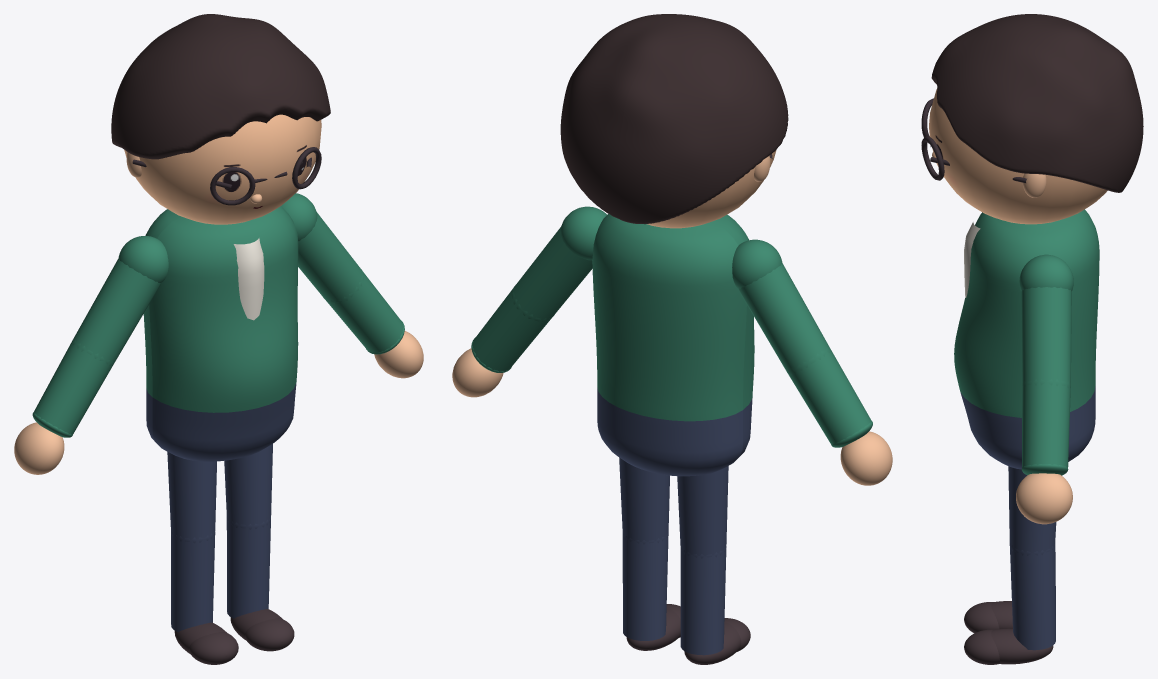
The model's file is qing_middle.glb.
The picture shows the model from 3 angles, left to right: view 1: azimuth 30°, elevation 25°; view 2: azimuth 150°, elevation 25°; view 3: azimuth 270°, elevation 25°; orthographic projection. The views are drawn at different scales.
Visible parts, largest first — view 1: torso, hair, head, pelvis, upper_arm_R, upper_arm_L, lower_arm_R, thigh_R, shin_R, shin_L, thigh_L, lower_arm_L (+4 smaller); view 2: hair, torso, pelvis, upper_arm_R, upper_arm_L, shin_R, shin_L, lower_arm_R, thigh_R, thigh_L, lower_arm_L, head (+4 smaller); view 3: hair, torso, head, upper_arm_L, lower_arm_L, shin_L, pelvis, hand_L, shoe_L, thigh_L, shoe_R.
Boxes of the visible parts, x1,y1,x2,y2 form: torso: (143, 206, 298, 412); hair: (111, 14, 330, 159); head: (124, 114, 321, 224); pelvis: (146, 383, 296, 461); upper_arm_R: (71, 236, 168, 365); upper_arm_L: (281, 193, 364, 304); lower_arm_R: (32, 340, 112, 437); thigh_R: (167, 452, 216, 543); shin_R: (171, 532, 215, 632); shin_L: (226, 519, 270, 618); thigh_L: (224, 444, 272, 529); lower_arm_L: (326, 271, 404, 354); hair: (560, 14, 788, 224); torso: (592, 214, 754, 421); pelvis: (597, 387, 752, 476); upper_arm_R: (732, 239, 830, 375); upper_arm_L: (511, 206, 606, 322); shin_R: (680, 549, 726, 655); shin_L: (622, 534, 668, 640); lower_arm_R: (788, 348, 872, 447); thigh_R: (677, 466, 728, 558); thigh_L: (619, 457, 669, 544); lower_arm_L: (471, 288, 551, 372); head: (647, 150, 776, 228); hair: (931, 14, 1143, 192); torso: (954, 209, 1099, 417); head: (921, 88, 1107, 224); upper_arm_L: (1019, 254, 1073, 388); lower_arm_L: (1021, 382, 1070, 475); shin_L: (1009, 544, 1055, 650); pelvis: (960, 386, 1095, 469); hand_L: (1016, 473, 1072, 524); shoe_L: (964, 628, 1053, 664); thigh_L: (1008, 466, 1056, 555); shoe_R: (964, 601, 1012, 633).
Size of the model in its own units: 1.23 by 1.75 by 0.5656.
8 materials, 1 textured.
